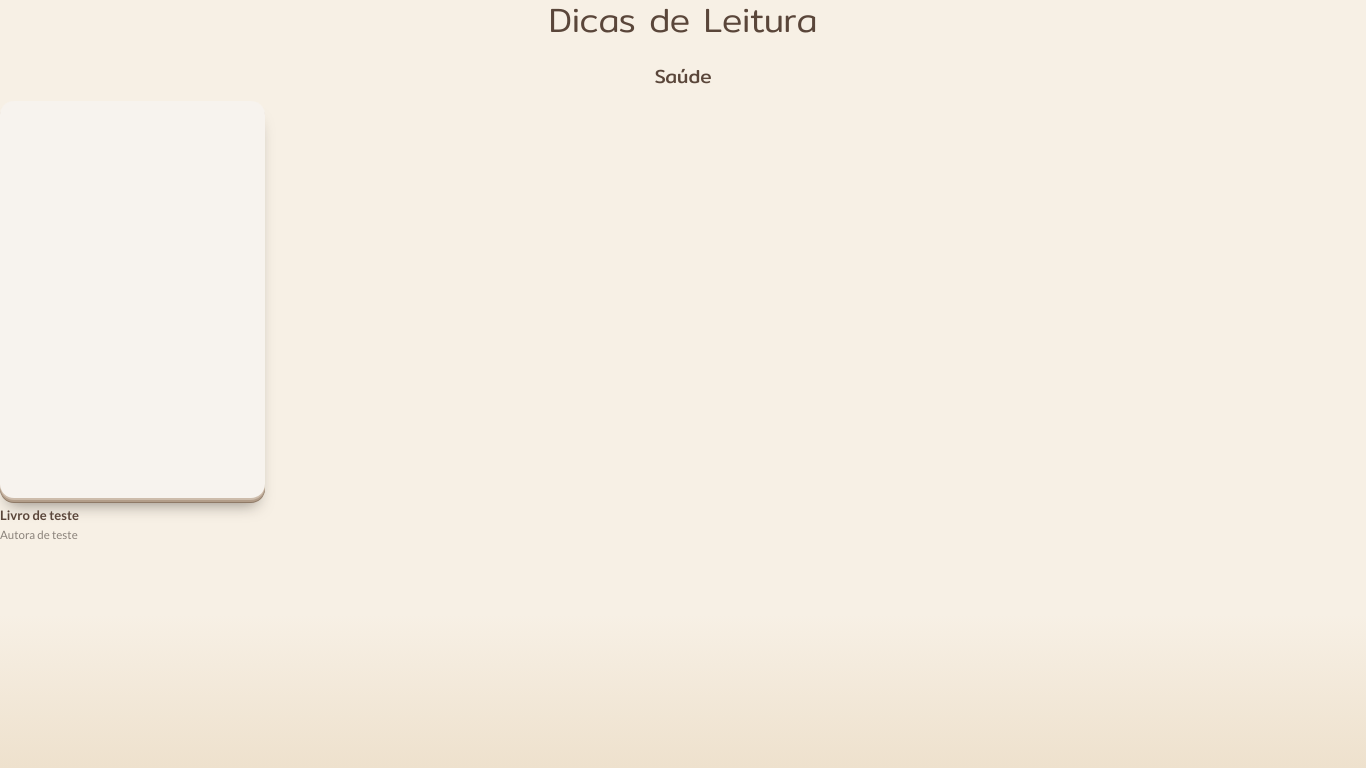
ReadingTipsPage — Dicas de Leitura › mostra o livro com título, autor, resumo, aprendizados e motivo, no tema certo
Expected: the element "Saúde" is shown, left=0, top=61, right=712, bottom=542
Click the button "Livro de teste Autora de teste" at {"x": 133, "y": 321}, box left=0, top=101, right=265, bottom=542
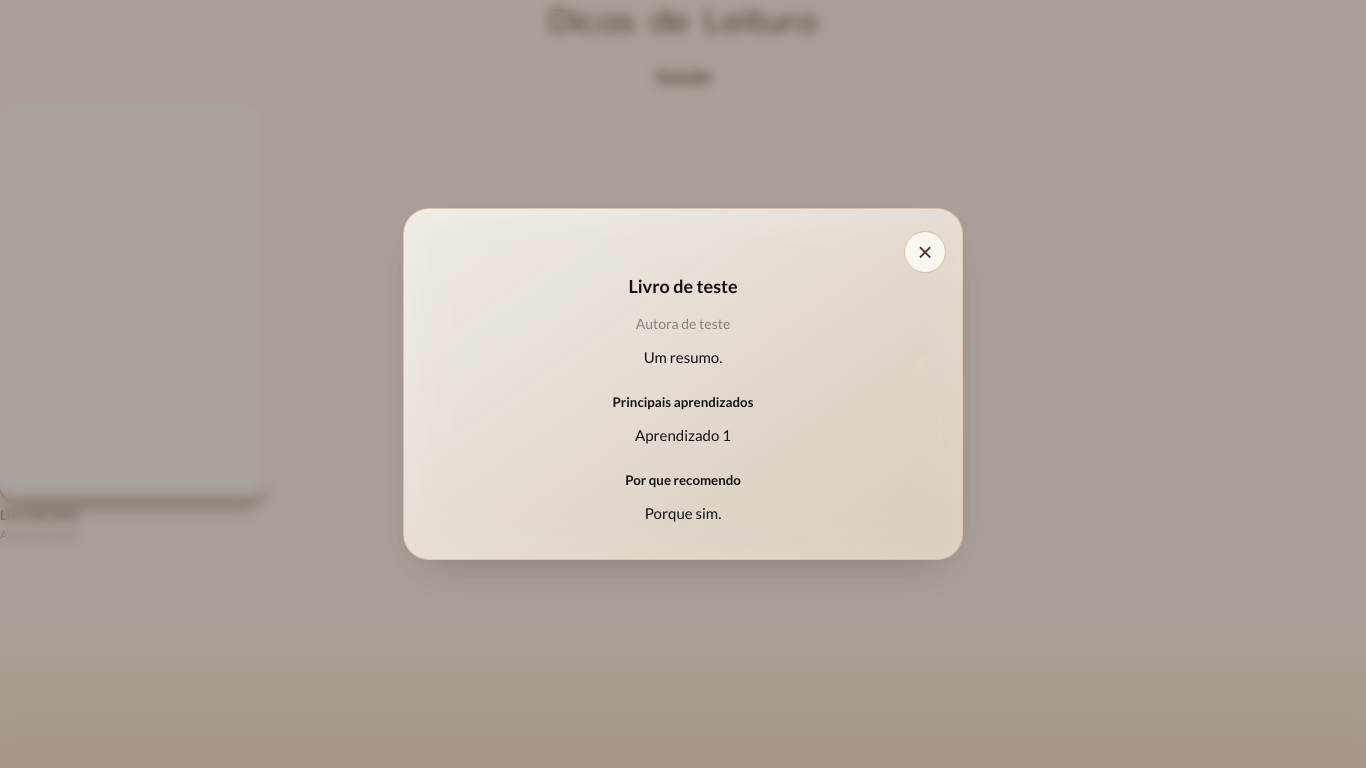
Now the heading "Livro de teste" is shown, box left=628, top=275, right=738, bottom=297
Now the text "Um resumo." is shown, box left=644, top=348, right=722, bottom=366
Now the text "Aprendizado 1" is shown, box left=635, top=426, right=731, bottom=444
